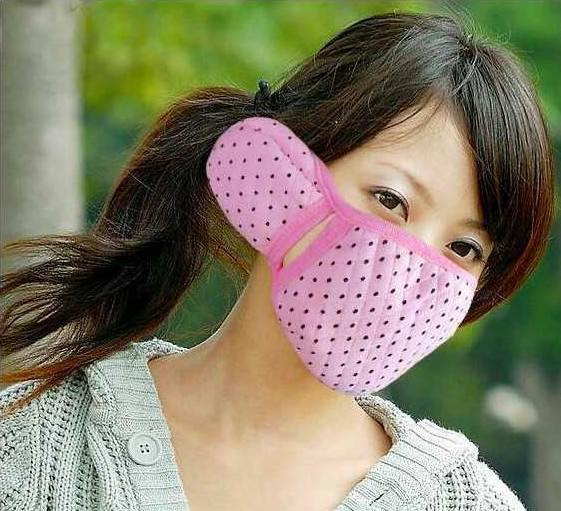OK: (280, 157, 509, 386)
